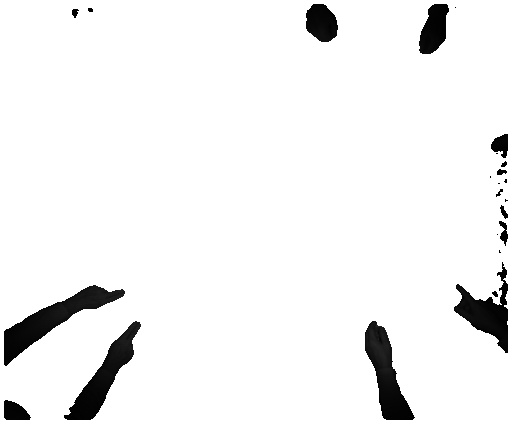fist: (304, 11, 343, 47)
hand: (448, 280, 489, 335), (360, 320, 396, 376), (73, 280, 127, 313), (111, 320, 143, 372), (416, 17, 447, 55)
